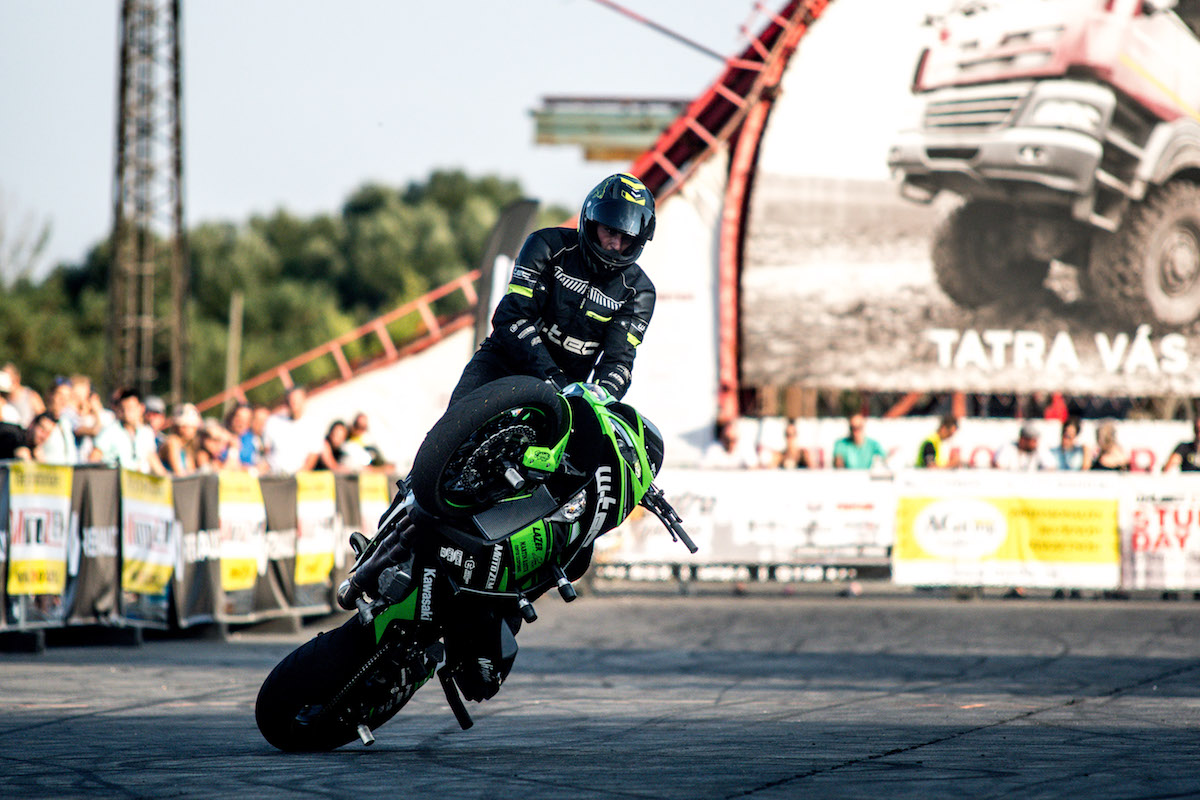helmet: (569, 164, 661, 269)
